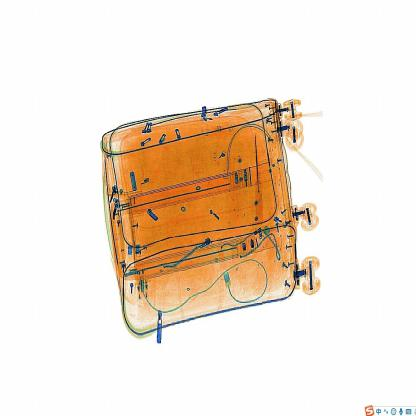wrench: (251, 119, 276, 228)
